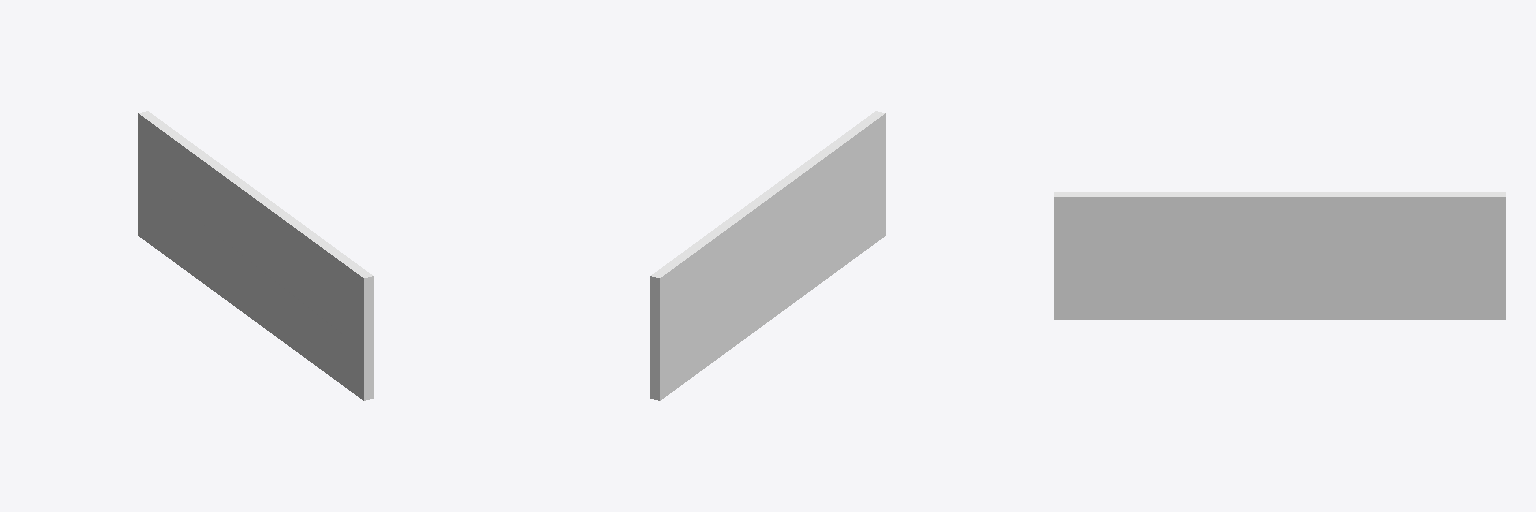
Rendered from rainbow1.obj.
3 views of the same model, side by side, from view 1: azimuth 30°, elevation 25°; view 2: azimuth 150°, elevation 25°; view 3: azimuth 270°, elevation 25° (orthographic).
Parts seen in each view (by area): view 1: object 1; view 2: object 1; view 3: object 1.
Boxes of the visible parts, <box> form: object 1: <box>138,111,373,400</box>; object 1: <box>650,111,885,400</box>; object 1: <box>1054,192,1505,319</box>.
Bounding box in the file's own units: 0.1 × 1.2 × 4.